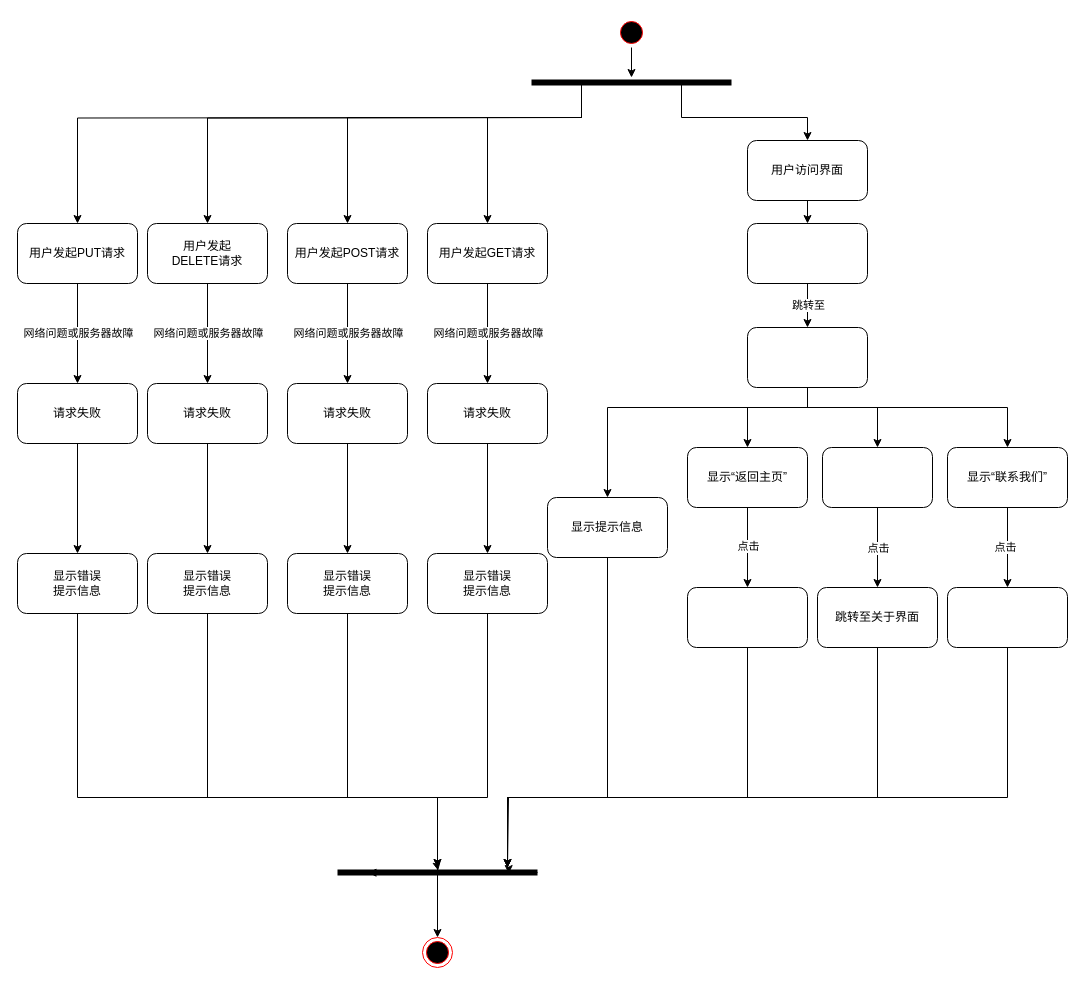
This 1085x985 diagram has some shape labels left out. The shapes that lost their labels are listed below. From the top down, each one's box as (x1, y1, x2, y2) in pixels, then its label:
(746, 222, 868, 284): 访问失败
(746, 326, 868, 388): 404界面
(822, 446, 932, 508): 显示“关于宠悦”
(686, 586, 808, 648): 跳转至主页
(946, 586, 1068, 648): 跳转至 联系我们界面
